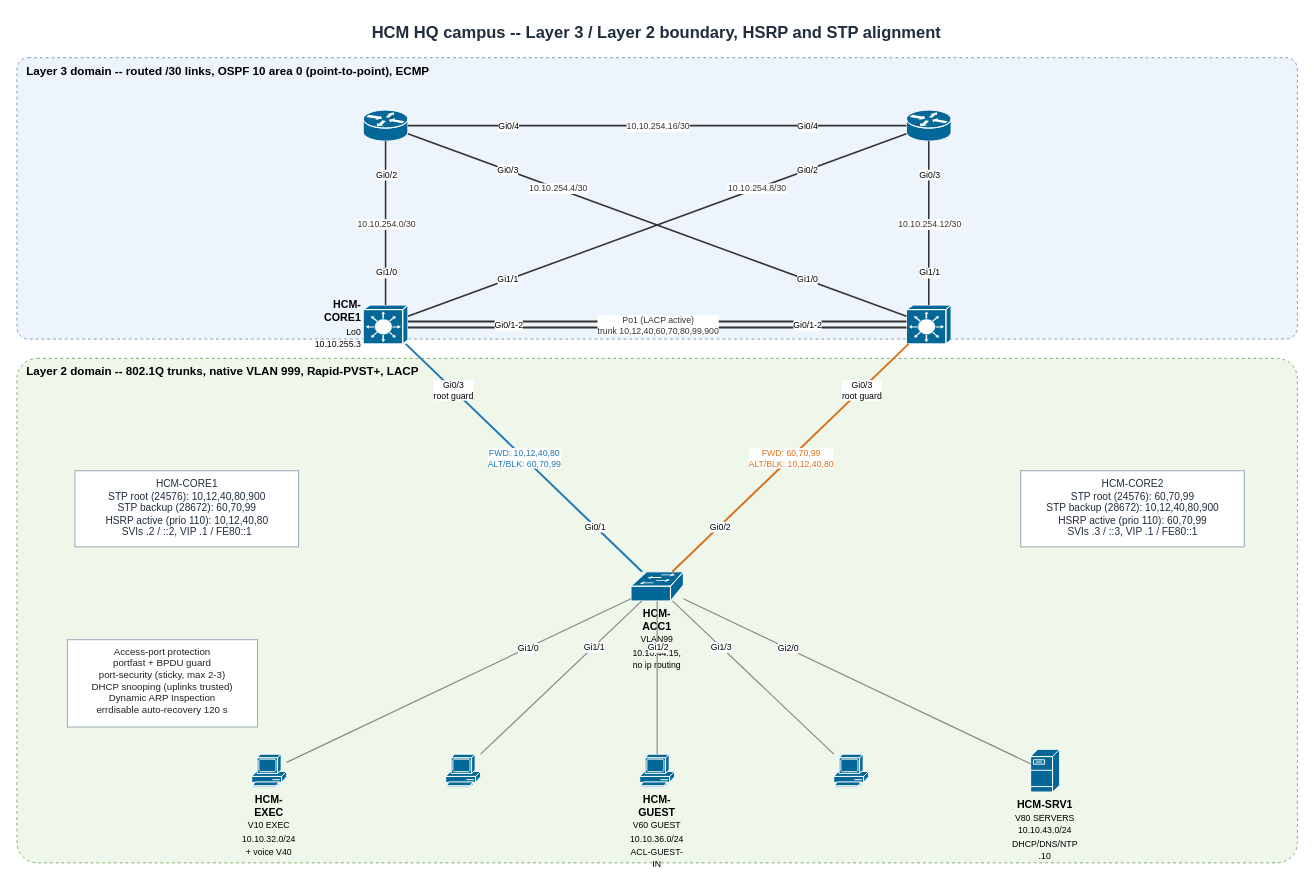
The diagram is 1314 pixels wide and 887 high, and some of its shapes have lost their labels. Each missing label, with the centre of its shape:
HCM-CORE2 Lo0 10.10.255.4: point (928, 324)
HCM-CORP V12 CORP 10.10.0.0/24 + voice V40: point (463, 770)
HCM-EDG1 Lo0 10.10.255.1: point (385, 125)
HCM-EDG2 Lo0 10.10.255.2: point (928, 125)
HCM-PHONE V40 VOICE 10.10.16.0/24: point (851, 770)
